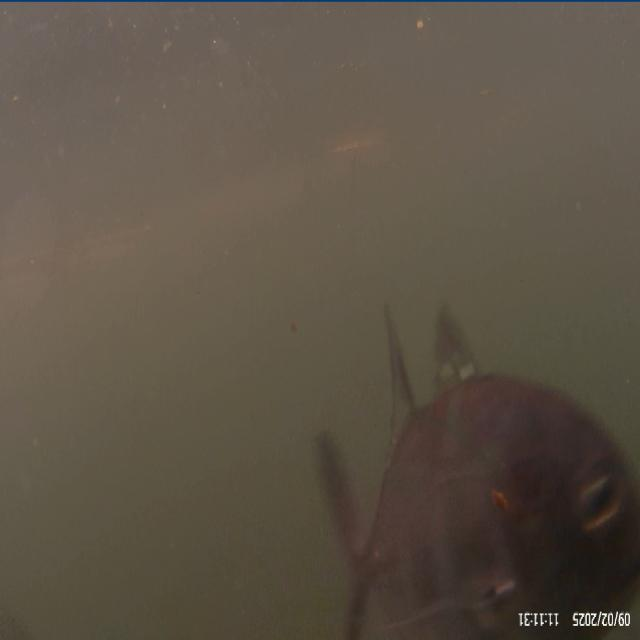ikan: (313, 298, 638, 636)
